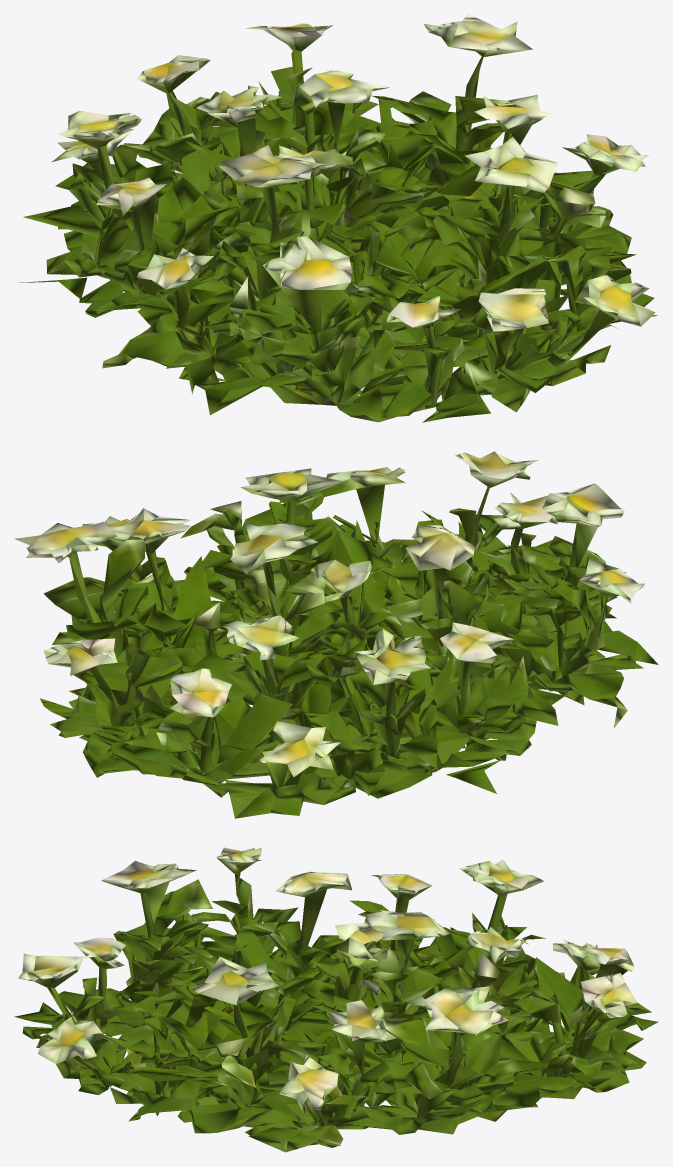
The model's file is getkong-blume1.glb.
The picture shows the model from 3 angles, top to bottom: view 1: azimuth 30°, elevation 25°; view 2: azimuth 150°, elevation 25°; view 3: azimuth 270°, elevation 25°; orthographic projection. The views are drawn at different scales.
Parts seen in each view (by area): view 1: output_unwrapped; view 2: output_unwrapped; view 3: output_unwrapped.
Part boxes in pixels (box(x1,y1,x2,y2)): output_unwrapped: box(19, 14, 657, 422); output_unwrapped: box(14, 451, 658, 818); output_unwrapped: box(14, 847, 658, 1152).
Bounding box in the file's own units: 1.57 × 0.4608 × 1.83.
1 material, 1 textured.
